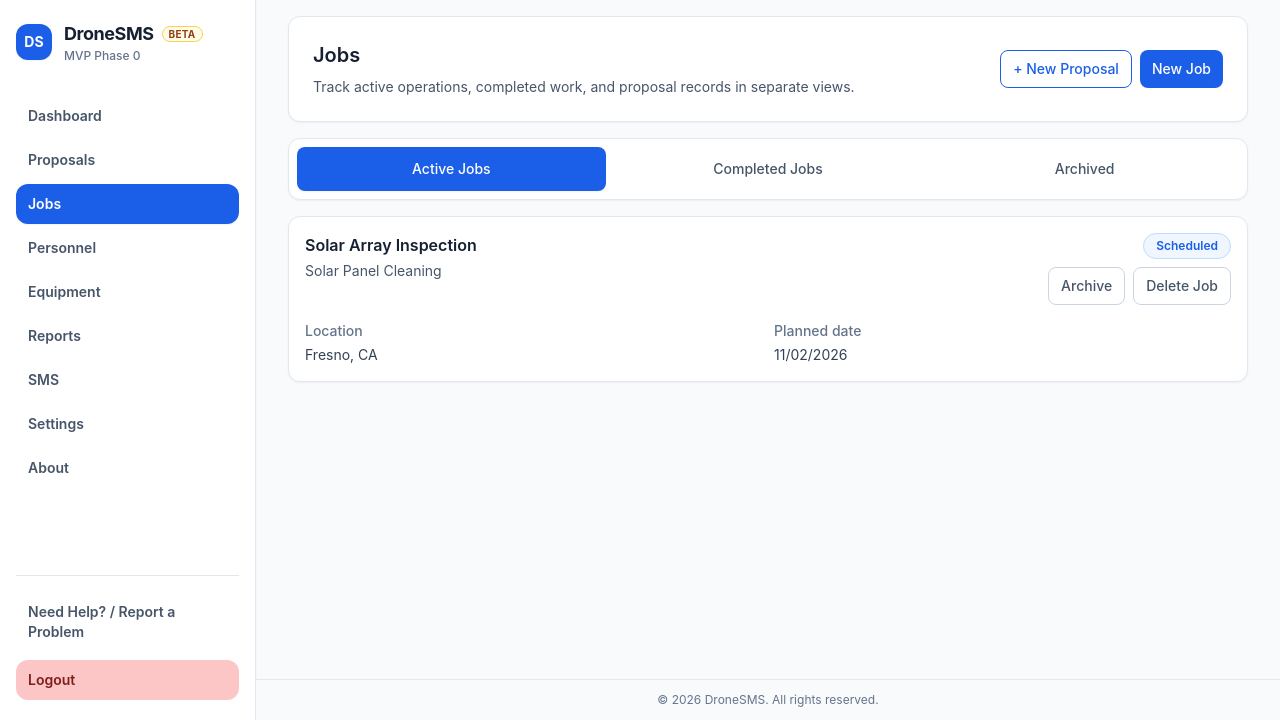
Test: switching between Jobs and Proposals › refreshes the section being entered so records changed elsewhere appear
Check: the heading "Solar Array Inspection" is shown, box [305,235,477,255]
Click the link "Proposals" at (62, 160), box [28,151,95,168]
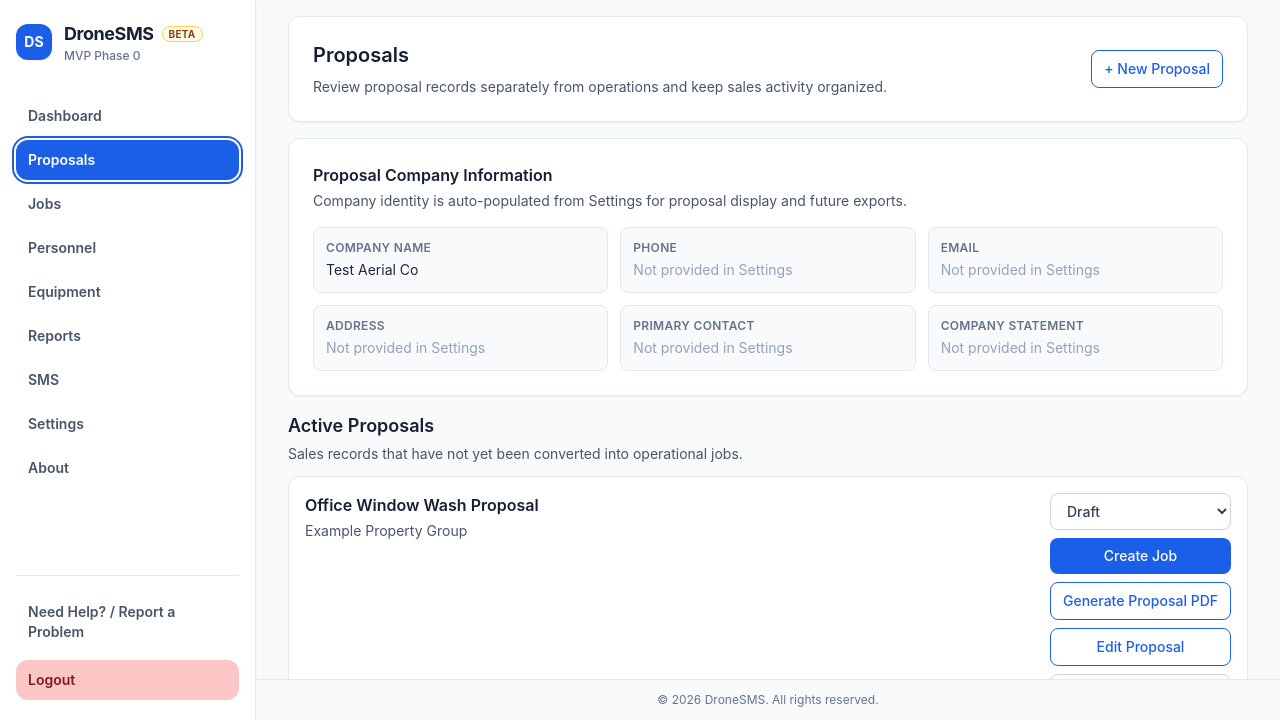
Check: the heading "Office Window Wash Proposal" is shown, box [305,493,539,517]
Click the link "Jobs" at (45, 204), box [28,195,61,212]
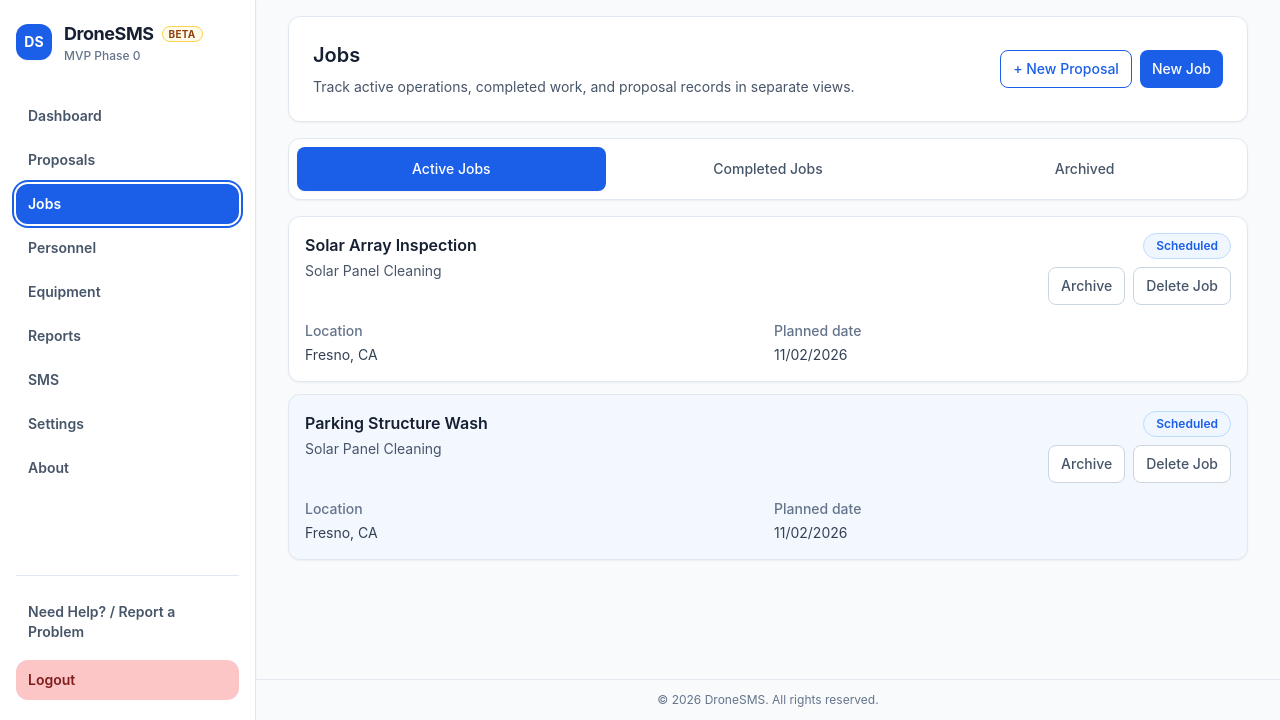
Check: the heading "Parking Structure Wash" is shown, box [305,413,488,433]
Check: the heading "Solar Array Inspection" is shown, box [305,235,477,255]
